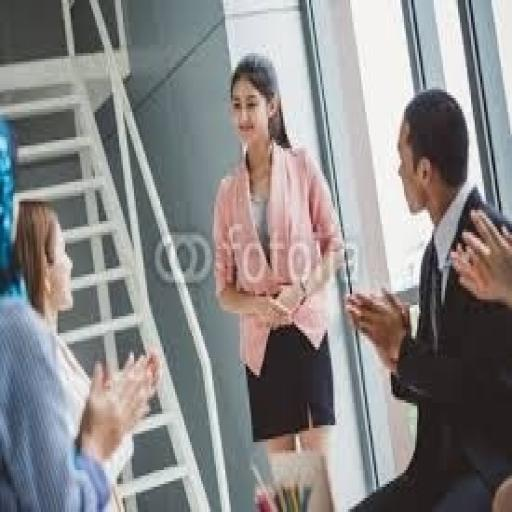clapping: (343, 84, 510, 509), (0, 196, 162, 509)
